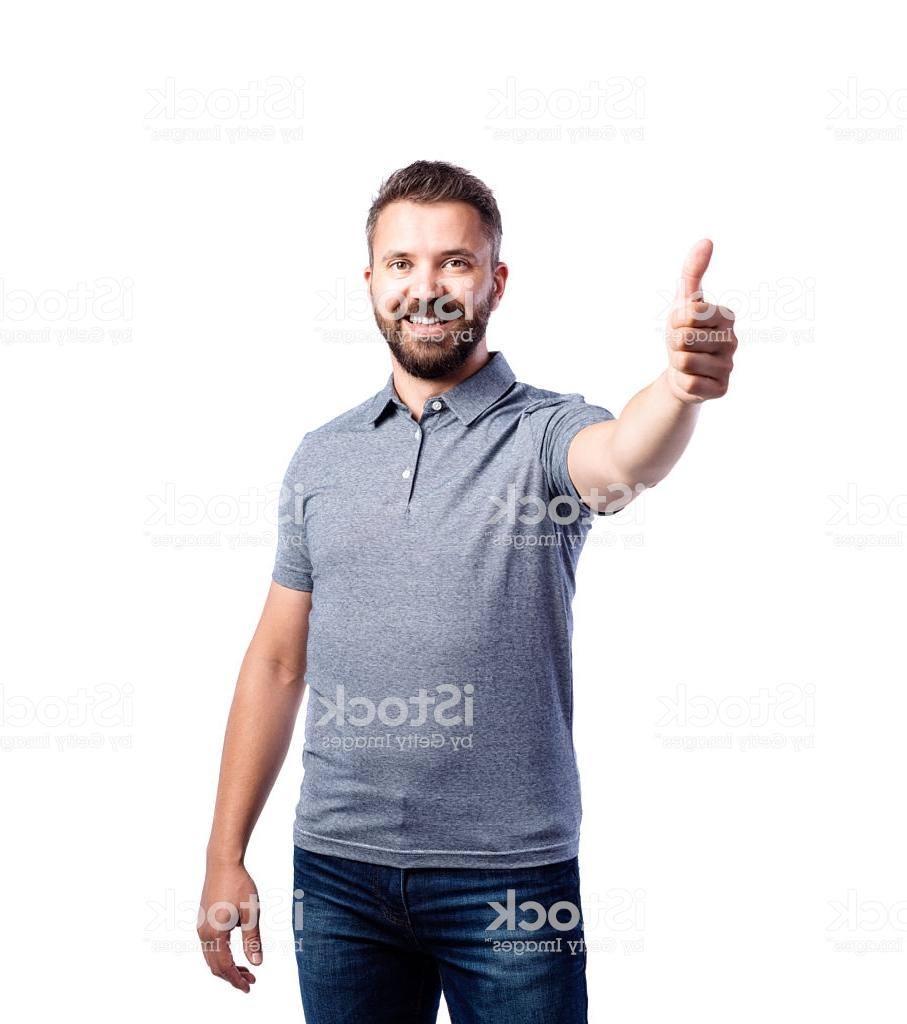thumbsup: (665, 236, 740, 406)
